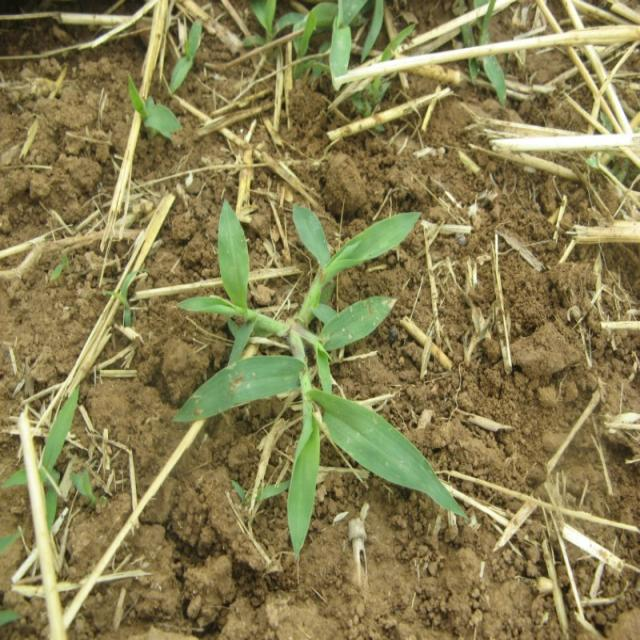bg: (182, 199, 469, 547)
